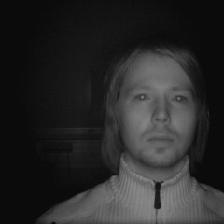normal: (101, 42, 220, 169)
